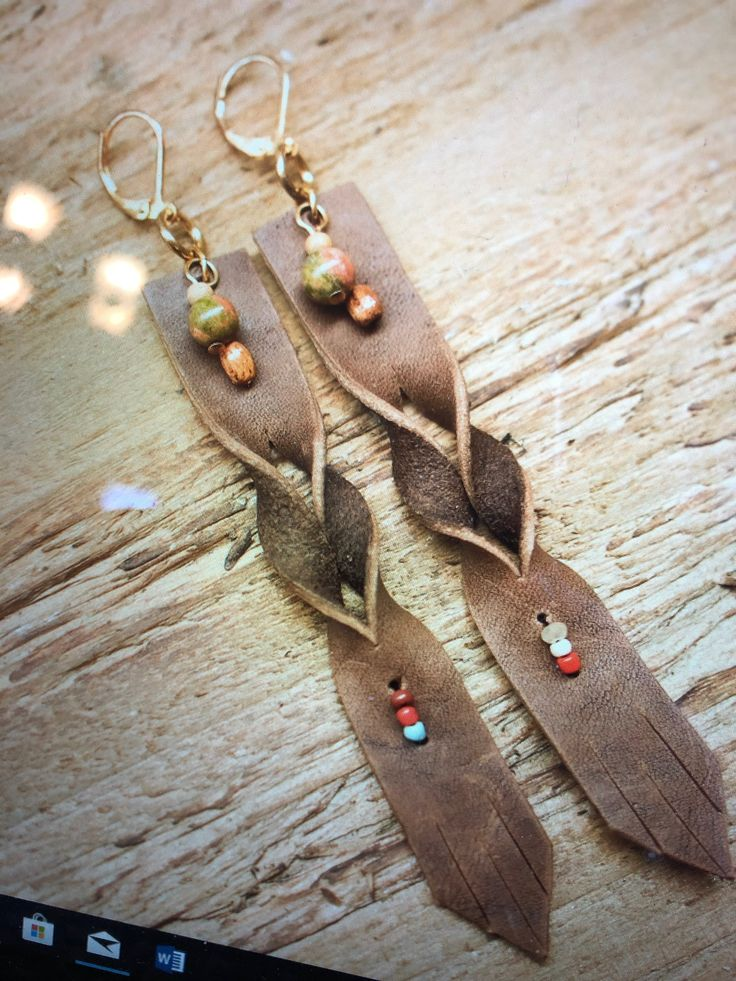cuero: (142, 181, 736, 963)
